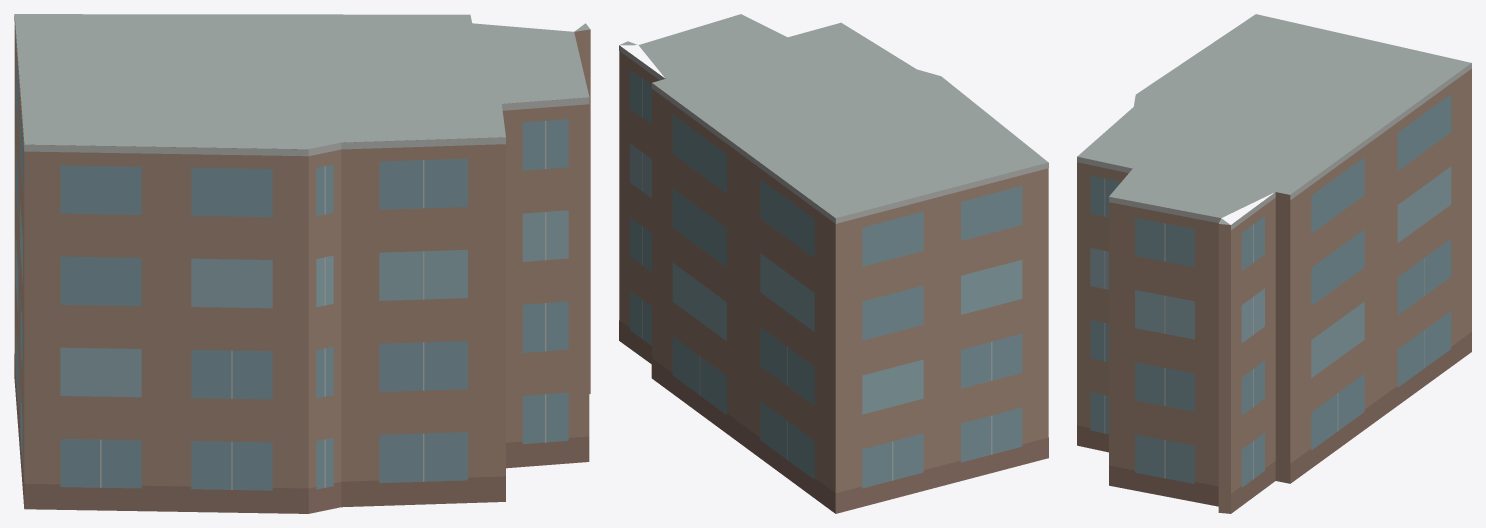
Rendered from survey-upis-32670938.glb.
The picture shows the model from 3 angles, left to right: view 1: azimuth 30°, elevation 25°; view 2: azimuth 150°, elevation 25°; view 3: azimuth 270°, elevation 25°; orthographic projection. The views are drawn at different scales.
Parts seen in each view (by area): view 1: survey-upis-32670938.tmp; view 2: survey-upis-32670938.tmp; view 3: survey-upis-32670938.tmp.
Boxes of the visible parts, <box> form: survey-upis-32670938.tmp: <box>14,14,590,513</box>; survey-upis-32670938.tmp: <box>619,14,1048,513</box>; survey-upis-32670938.tmp: <box>1077,14,1471,513</box>.
Bounding box in the file's own units: 20.05 × 12.8 × 15.86.
